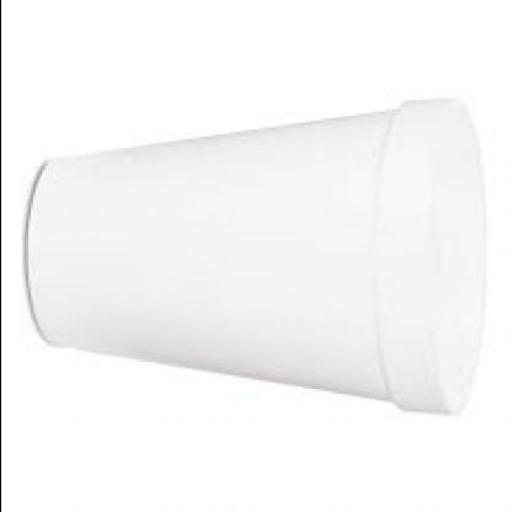paper: (27, 102, 490, 419)
